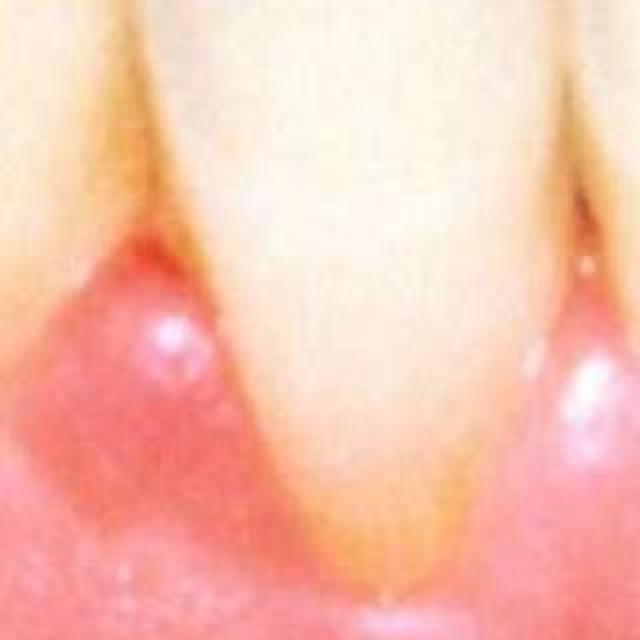stains: (60, 48, 236, 278), (514, 78, 640, 284)
